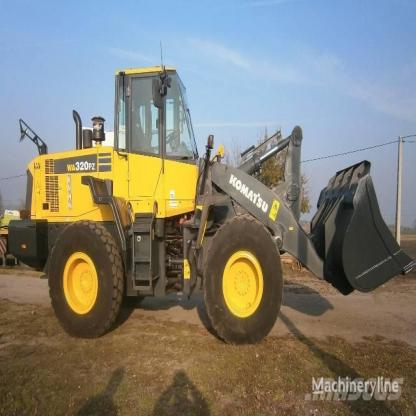bull_dozer/loader/grader: (8, 58, 411, 351)
